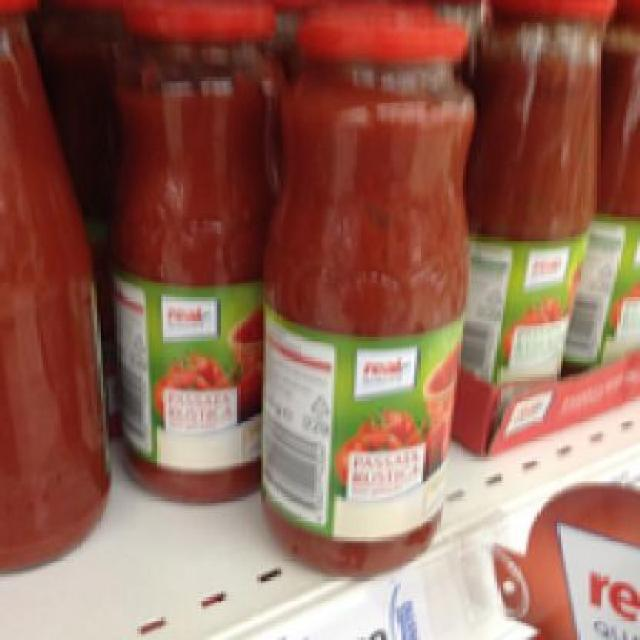Tomato Sauce: (252, 9, 478, 578), (94, 0, 263, 500), (468, 2, 618, 372)
